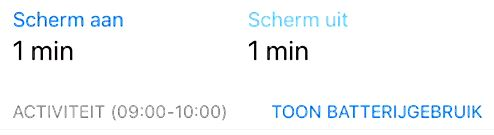activity: (6, 95, 242, 130)
